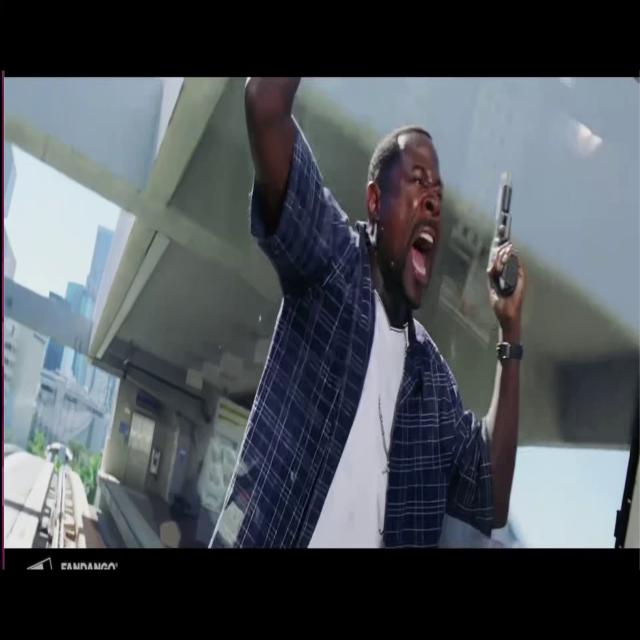weapons: (480, 147, 527, 302)
